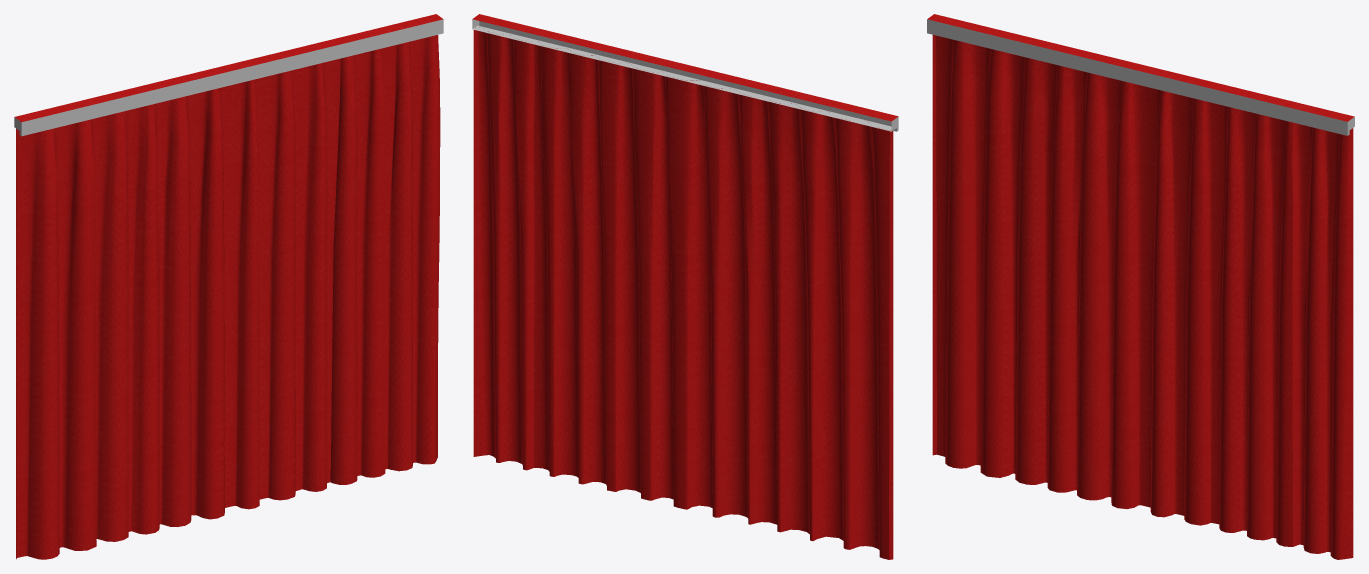
The model's file is WallCurtain01_350cm.FBX.
The picture shows the model from 3 angles, left to right: view 1: azimuth 30°, elevation 25°; view 2: azimuth 150°, elevation 25°; view 3: azimuth 330°, elevation 25°; orthographic projection.
Visible parts, largest first — view 1: WallCurtain01_350cm; view 2: WallCurtain01_350cm; view 3: WallCurtain01_350cm.
Part boxes in pixels (x1=…): WallCurtain01_350cm: x1=14, y1=14, x2=443, y2=559; WallCurtain01_350cm: x1=472, y1=14, x2=898, y2=559; WallCurtain01_350cm: x1=927, y1=14, x2=1354, y2=559.
Size of the model in its own units: 3500 by 3500 by 144.
